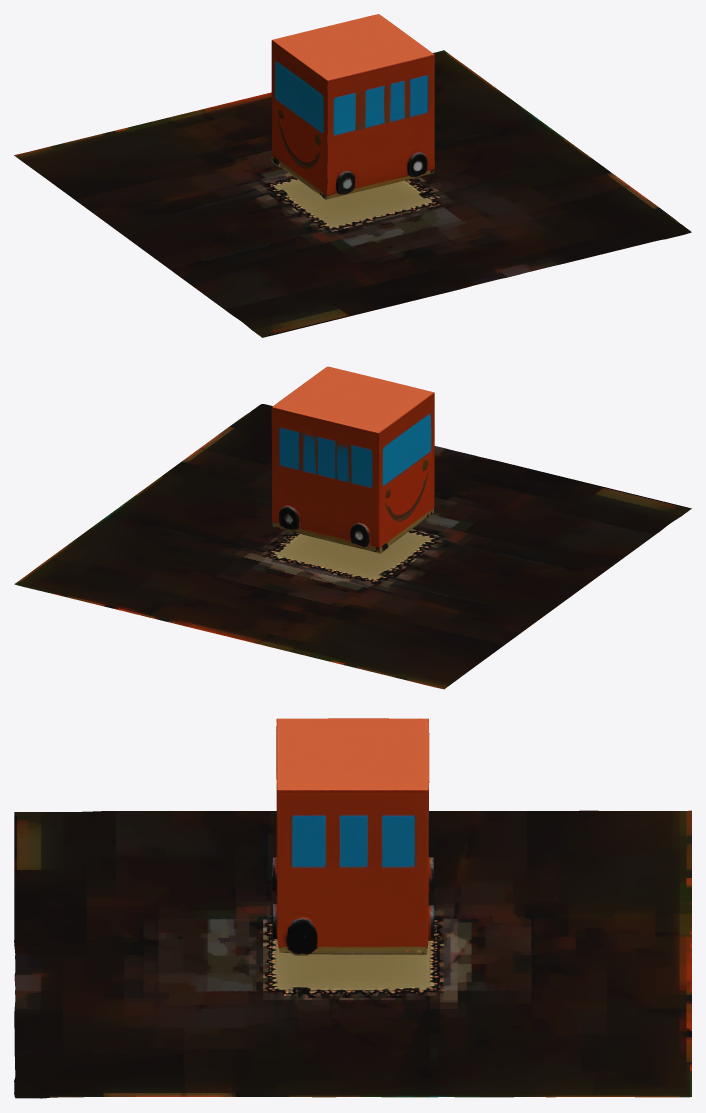
File: sample.glb
3 views of the same model, one above another, from view 1: azimuth 30°, elevation 25°; view 2: azimuth 150°, elevation 25°; view 3: azimuth 270°, elevation 25° (orthographic). The views are drawn at different scales.
Parts seen in each view (by area): view 1: world; view 2: world; view 3: world.
Boxes of the visible parts, bbox=[...] form: world: bbox=[14, 14, 691, 337]; world: bbox=[14, 366, 691, 689]; world: bbox=[14, 718, 691, 1098].
Bounding box in the file's own units: 1 × 0.331 × 1.
Materials: 1 (1 with a texture image).
